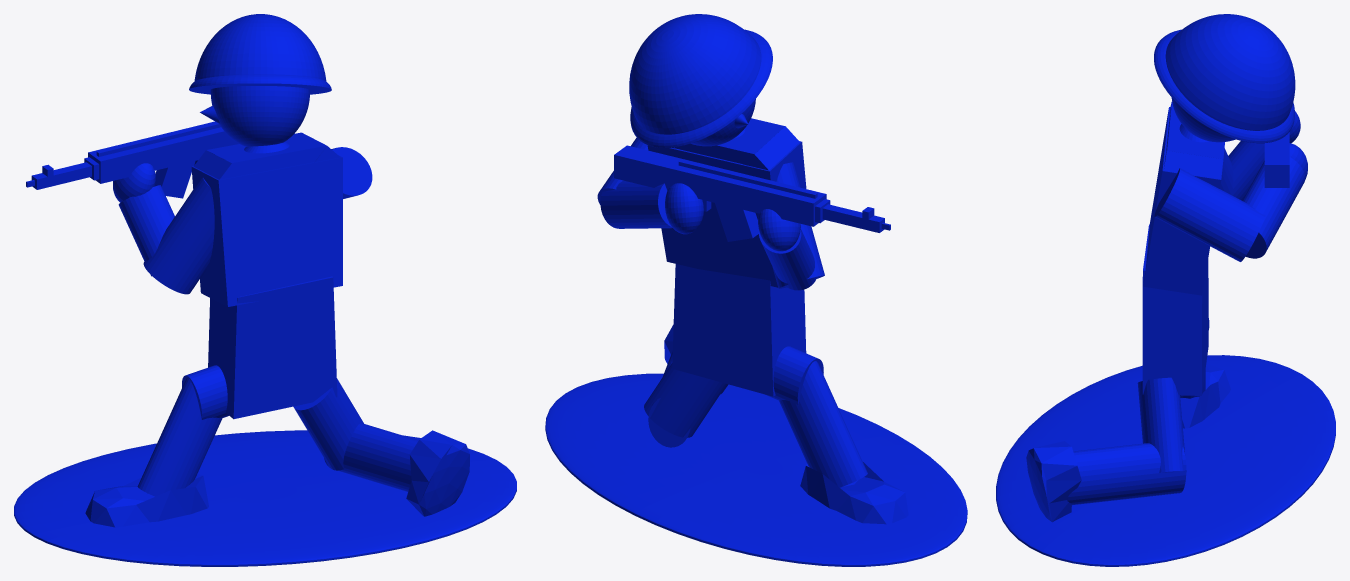
Rendered from toysoldier2(BLUE).fbx.
The picture shows the model from 3 angles, left to right: view 1: azimuth 30°, elevation 25°; view 2: azimuth 150°, elevation 25°; view 3: azimuth 270°, elevation 25°; orthographic projection. The views are drawn at different scales.
Parts seen in each view (by area): view 1: Cylinder, Cube, Cube.001, Cone.002, Cube.007, Cylinder.006, Cylinder.003, Icosphere.001, Icosphere.006, Cylinder.007, Cylinder.008, Cylinder.002 (+3 smaller); view 2: Cylinder, Cone.002, Cube.001, Cube.007, Cube, Cylinder.006, Icosphere.006, Cylinder.008, Cylinder.005, Cylinder.002, Cylinder.004, Sphere (+3 smaller); view 3: Cylinder, Cone.002, Cube, Cube.001, Cylinder.001, Cylinder.007, Cylinder.008, Icosphere.001, Cylinder.005, Icosphere.006, Cylinder.002, Cube.007 (+1 smaller).
Part boxes in pixels (<box>): Cylinder: <box>14,430,516,566</box>; Cube: <box>191,132,342,306</box>; Cube.001: <box>208,276,337,419</box>; Cone.002: <box>189,14,331,146</box>; Cube.007: <box>26,121,238,198</box>; Cylinder.006: <box>137,378,222,496</box>; Cylinder.003: <box>143,177,214,294</box>; Icosphere.001: <box>406,430,469,516</box>; Icosphere.006: <box>85,474,208,527</box>; Cylinder.007: <box>324,423,418,491</box>; Cylinder.008: <box>293,378,363,470</box>; Cylinder.002: <box>118,185,174,276</box>; Cylinder: <box>545,373,967,566</box>; Cone.002: <box>629,14,772,147</box>; Cube.001: <box>672,264,806,396</box>; Cube.007: <box>614,145,890,241</box>; Cube: <box>647,118,806,287</box>; Cylinder.006: <box>779,361,867,487</box>; Icosphere.006: <box>800,462,908,524</box>; Cylinder.008: <box>644,363,726,437</box>; Cylinder.005: <box>600,180,672,228</box>; Cylinder.002: <box>758,229,816,290</box>; Cylinder.004: <box>765,346,823,405</box>; Sphere: <box>665,183,703,234</box>; Cylinder: <box>996,355,1335,566</box>; Cone.002: <box>1154,14,1295,143</box>; Cube: <box>1143,102,1224,295</box>; Cube.001: <box>1142,224,1208,395</box>; Cylinder.001: <box>1154,168,1265,261</box>; Cylinder.007: <box>1067,443,1186,505</box>; Cylinder.008: <box>1137,377,1186,472</box>; Icosphere.001: <box>1026,441,1081,522</box>; Cylinder.005: <box>1242,157,1305,258</box>; Icosphere.006: <box>1180,363,1230,428</box>; Cylinder.002: <box>1228,141,1264,200</box>; Cube.007: <box>1264,132,1289,187</box>.
Size of the model in its own units: 395 by 405 by 271.
